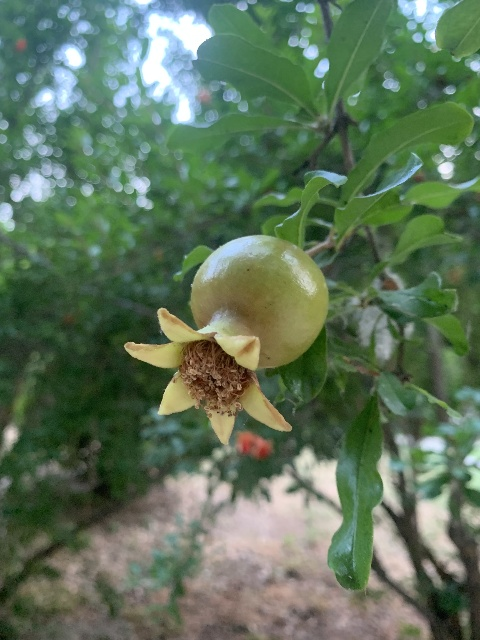mid-growth: (123, 235, 326, 448)
